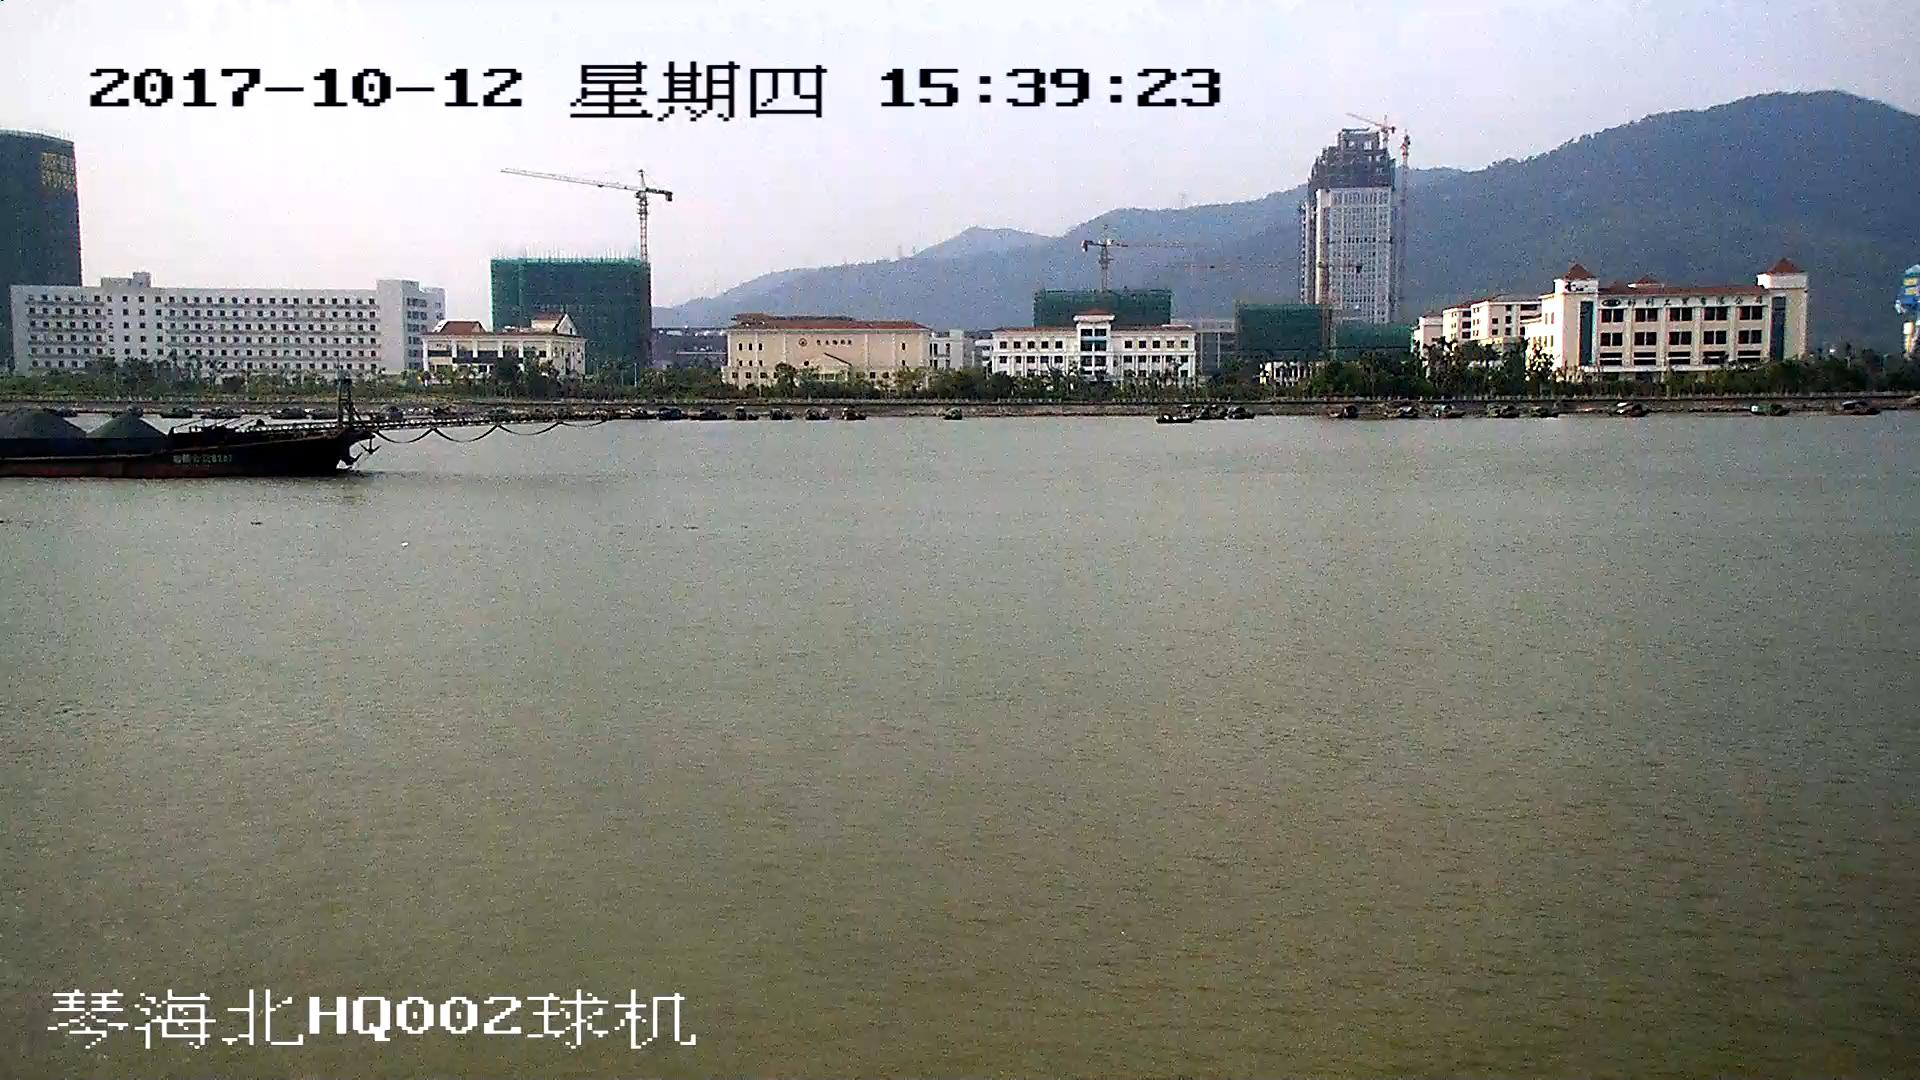ore carrier: (1, 375, 584, 478)
